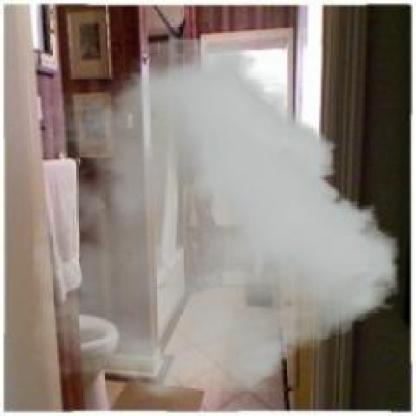Smoke: (34, 39, 399, 400)
